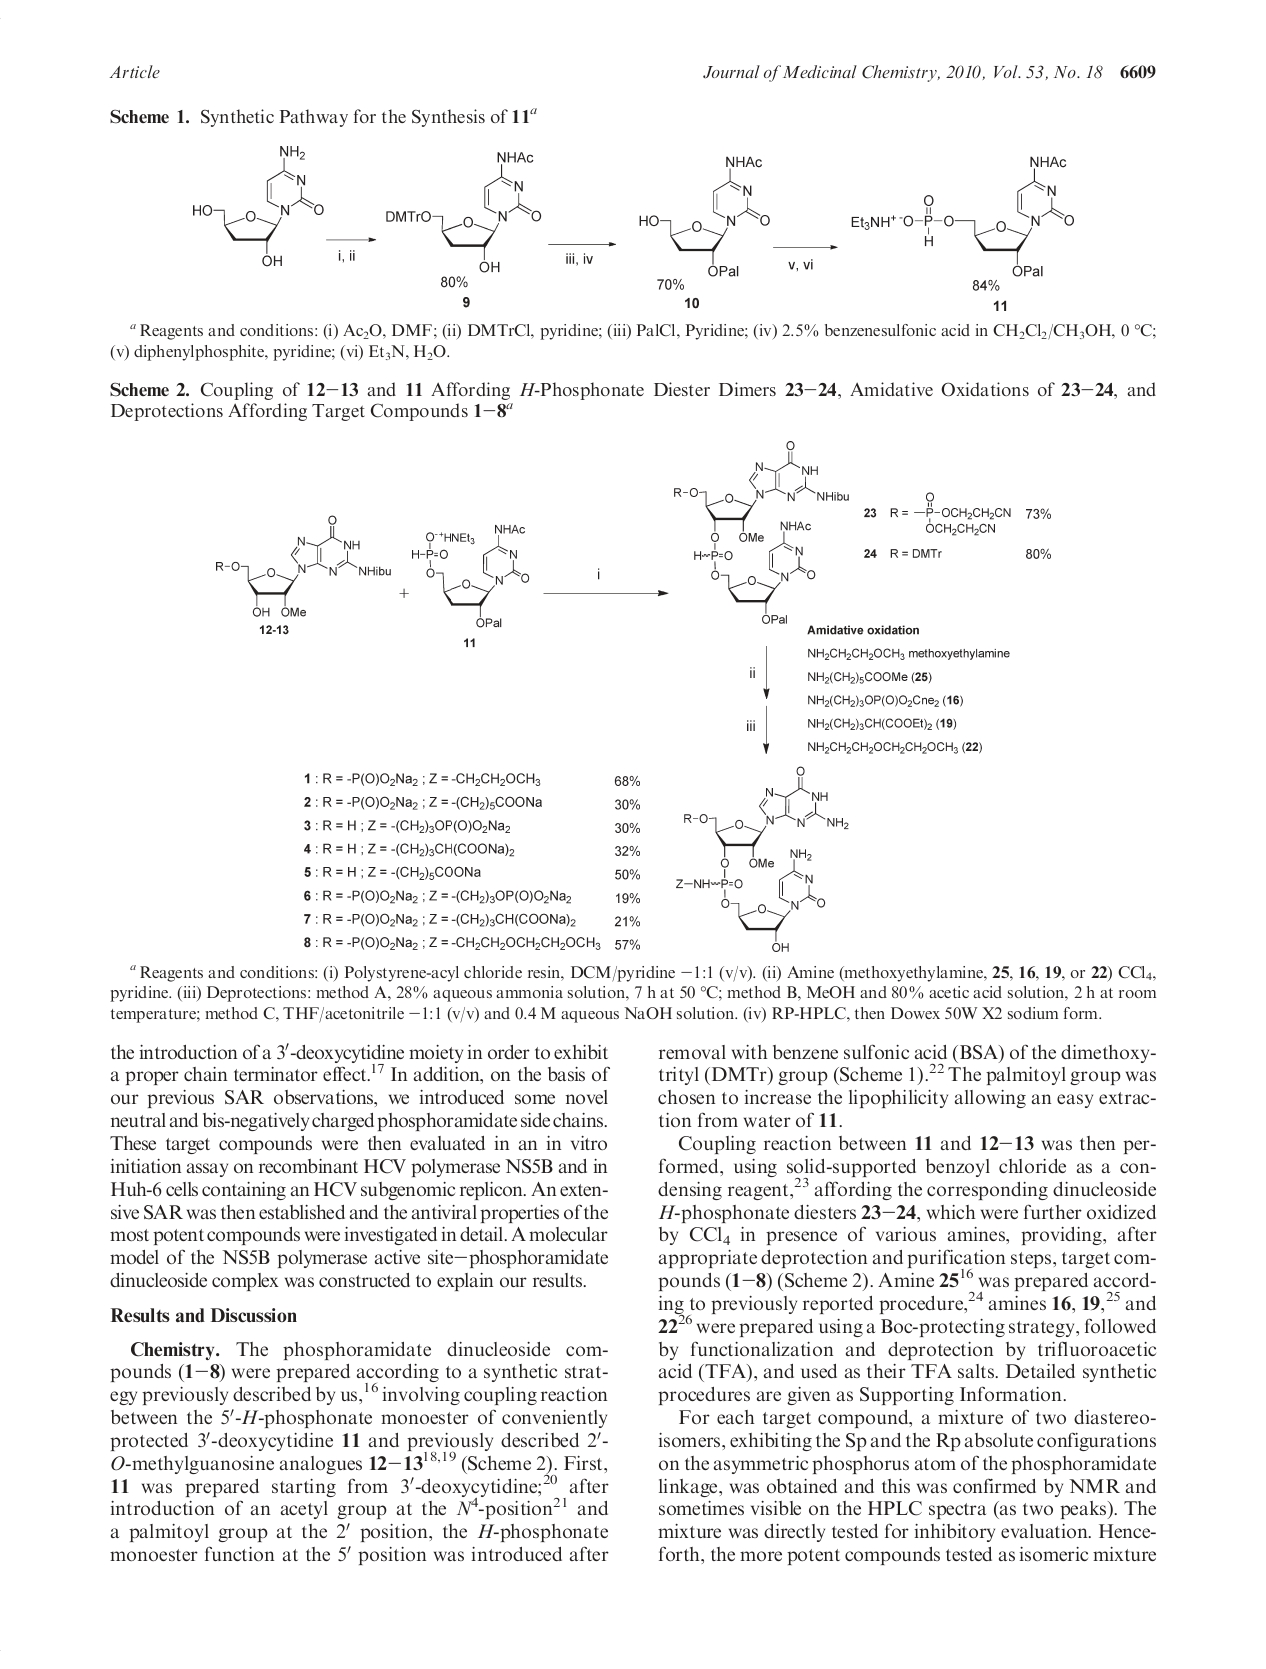exist_molecular: (668, 434, 852, 629), (673, 762, 846, 958), (848, 150, 1082, 277), (380, 145, 547, 273), (209, 515, 394, 626), (633, 156, 775, 277), (191, 145, 327, 269), (408, 517, 537, 632)
